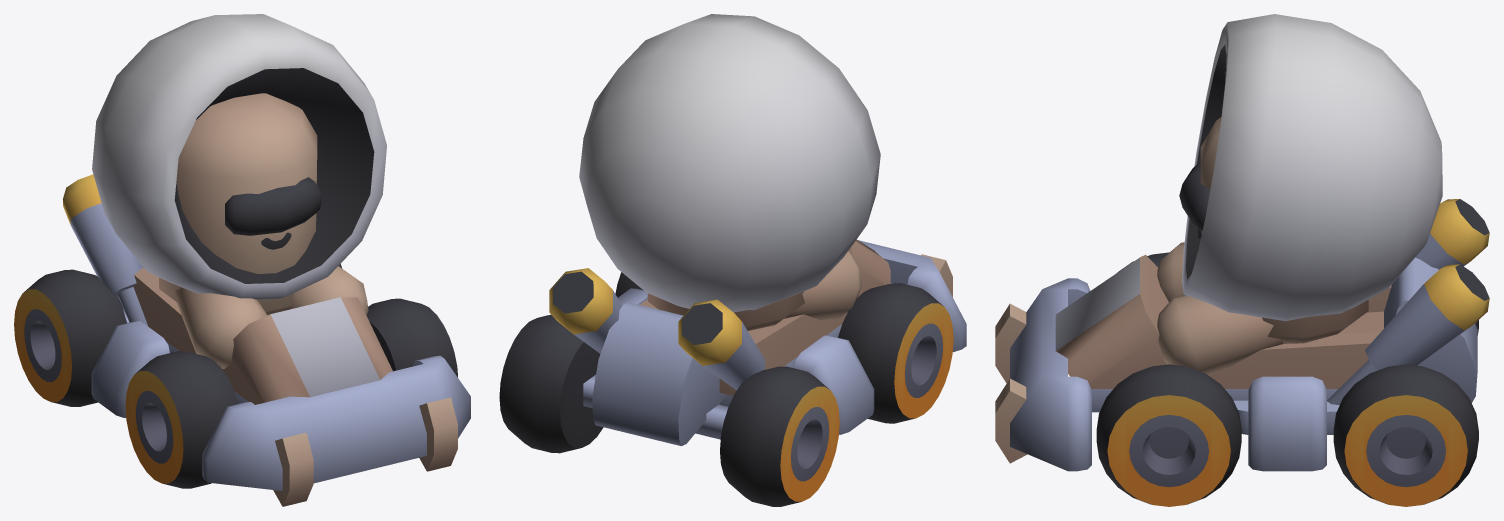
The model's file is kart-oozi.glb.
The picture shows the model from 3 angles, left to right: view 1: azimuth 30°, elevation 25°; view 2: azimuth 150°, elevation 25°; view 3: azimuth 270°, elevation 25°; orthographic projection. The views are drawn at different scales.
Parts seen in each view (by area): view 1: character, kart-oozi, wheel-back-right, wheel-front-right, wheel-front-left; view 2: character, kart-oozi, wheel-back-right, wheel-front-right, wheel-back-left; view 3: character, kart-oozi, wheel-front-left, wheel-back-left.
Boxes of the visible parts, x1,y1,x2,y2 form: character: (92, 14, 386, 368); kart-oozi: (63, 174, 470, 506); wheel-back-right: (14, 269, 126, 406); wheel-front-right: (125, 351, 238, 488); wheel-front-left: (366, 298, 457, 377); character: (579, 14, 880, 330); kart-oozi: (549, 239, 966, 446); wheel-back-right: (720, 366, 839, 506); wheel-front-right: (838, 283, 953, 423); wheel-back-left: (499, 314, 603, 453); character: (1157, 14, 1442, 375); kart-oozi: (995, 199, 1489, 471); wheel-front-left: (1096, 364, 1241, 506); wheel-back-left: (1333, 364, 1478, 506).
Size of the model in its own units: 0.9743 by 1.33 by 1.43.
